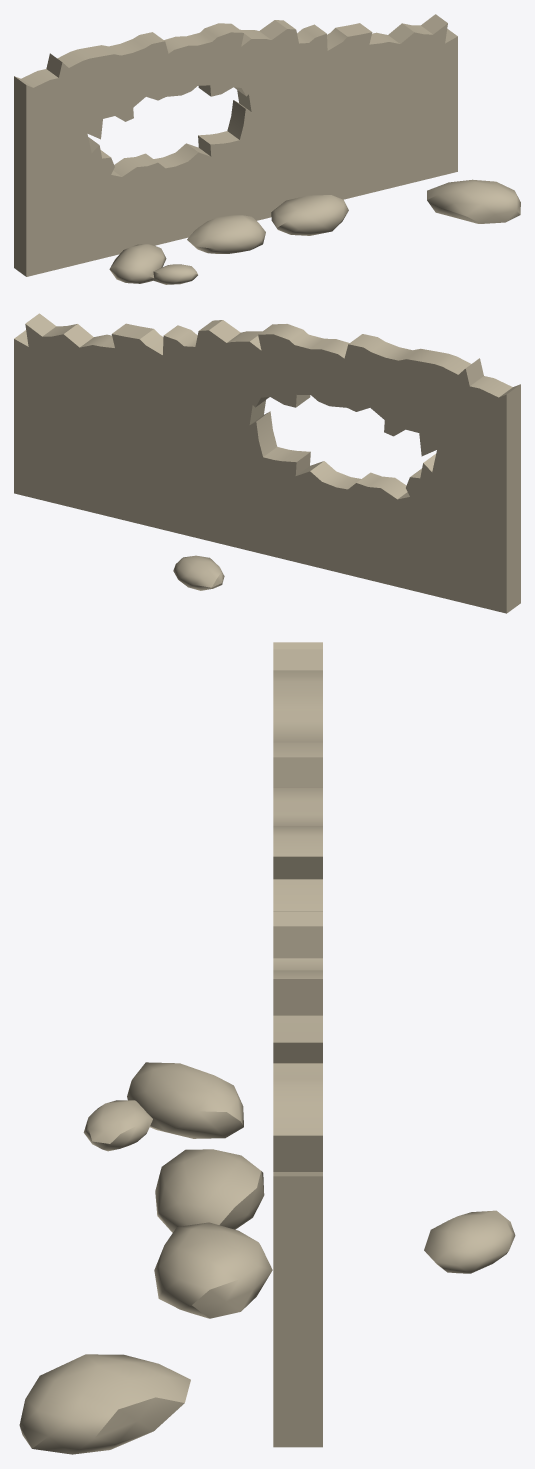
The model's file is wand_2x1_kaputt.glb.
3 renders of one model, top to bottom at view 1: azimuth 30°, elevation 25°; view 2: azimuth 150°, elevation 25°; view 3: azimuth 270°, elevation 25°, orthographic. The views are drawn at different scales.
Visible parts, largest first — view 1: wand_2x1_kaputt; view 2: wand_2x1_kaputt; view 3: wand_2x1_kaputt.
Part boxes in pixels (x1,y1,x2,y2): wand_2x1_kaputt: (14,14,520,284); wand_2x1_kaputt: (14,313,520,613); wand_2x1_kaputt: (19,642,515,1454).
Bounding box in the file's own units: 2.04 × 0.9537 × 0.9954.
